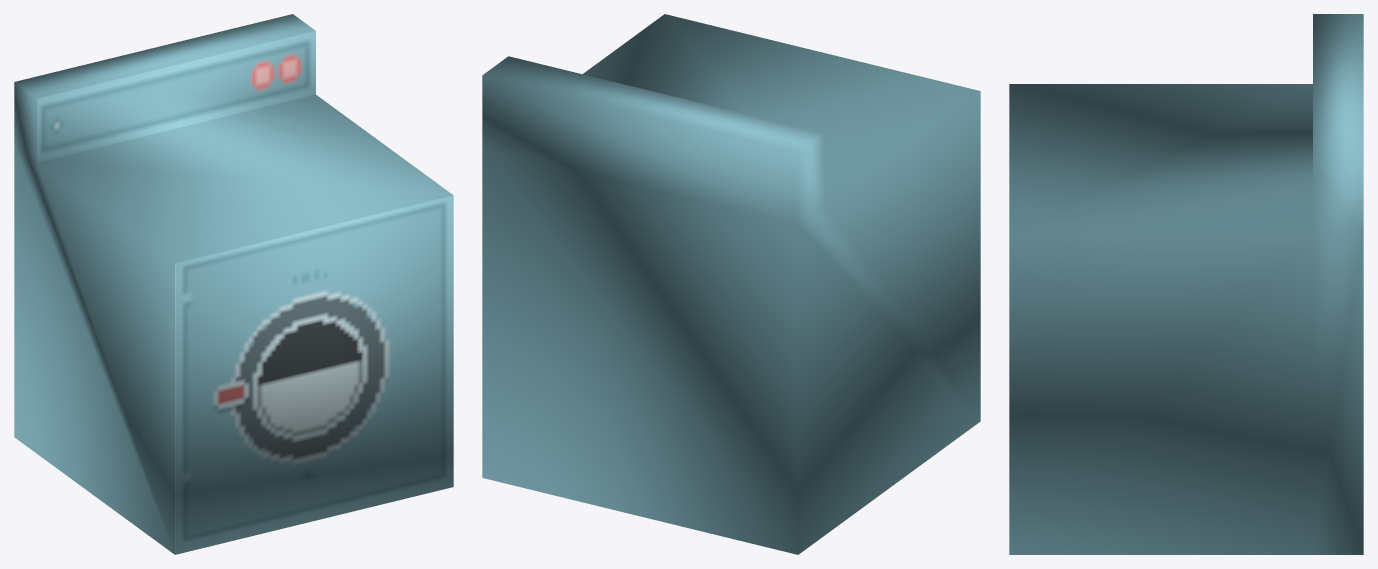
File: laveuse.fbx
3 views of the same model, side by side, from view 1: azimuth 30°, elevation 25°; view 2: azimuth 150°, elevation 25°; view 3: azimuth 270°, elevation 25° (orthographic). The views are drawn at different scales.
Visible parts, largest first — view 1: laveuse; view 2: laveuse; view 3: laveuse.
Boxes of the visible parts, left/top/right/bottom form: laveuse: left=14, top=14, right=453, bottom=554; laveuse: left=482, top=14, right=980, bottom=554; laveuse: left=1009, top=14, right=1363, bottom=554.
Size of the model in its own units: 516 by 628 by 516.
Materials: 1 (1 with a texture image).
